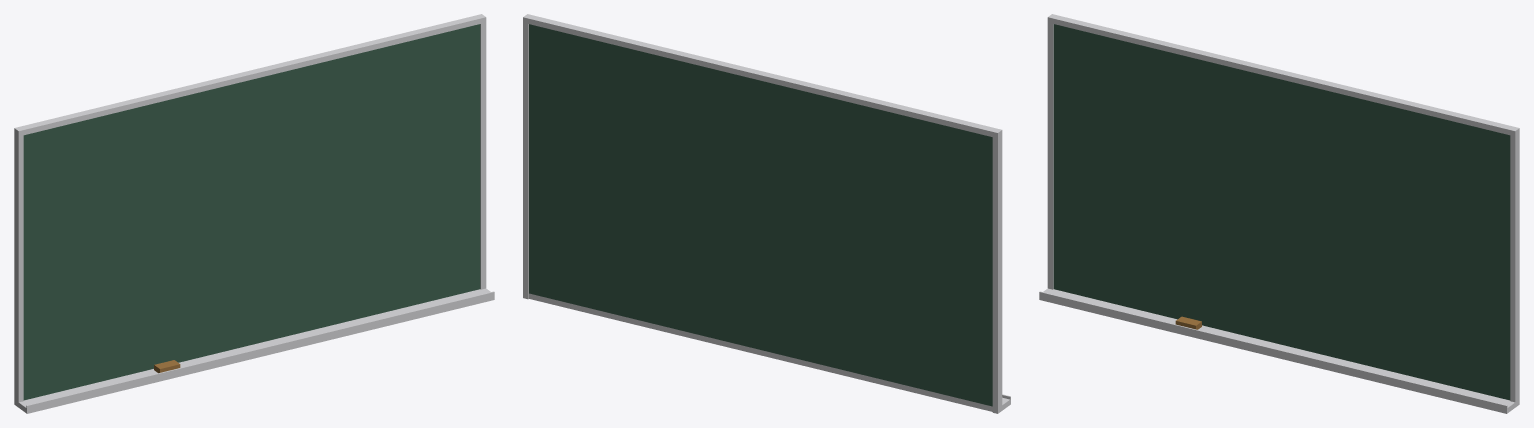
The model's file is Classroom_Board_StandardModel.glb.
3 views of the same model, side by side, from view 1: azimuth 30°, elevation 25°; view 2: azimuth 150°, elevation 25°; view 3: azimuth 330°, elevation 25° (orthographic).
Visible parts, largest first — view 1: Classroom_Board_Standard; view 2: Classroom_Board_Standard; view 3: Classroom_Board_Standard.
Part boxes in pixels (<box>): Classroom_Board_Standard: <box>14,14,494,413</box>; Classroom_Board_Standard: <box>523,14,1010,413</box>; Classroom_Board_Standard: <box>1039,14,1519,413</box>.
Size of the model in its own units: 4.5 by 2.54 by 0.2141.
